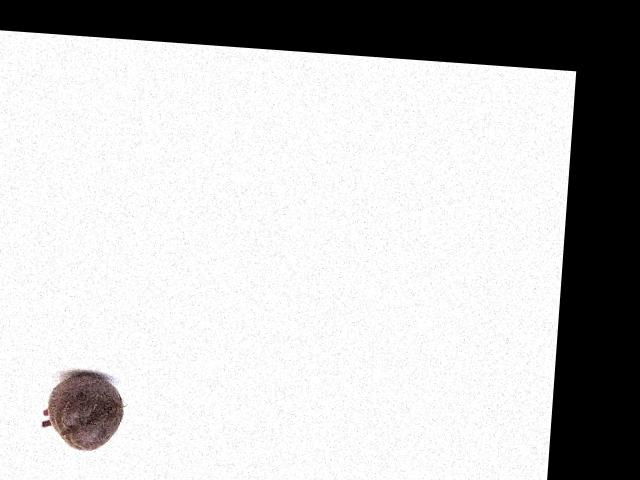beet: (41, 369, 126, 453)
